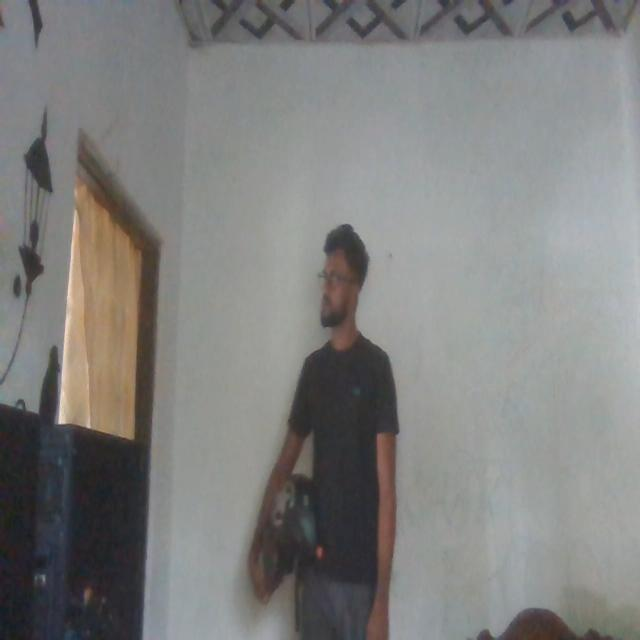Person: (266, 211, 397, 640)
